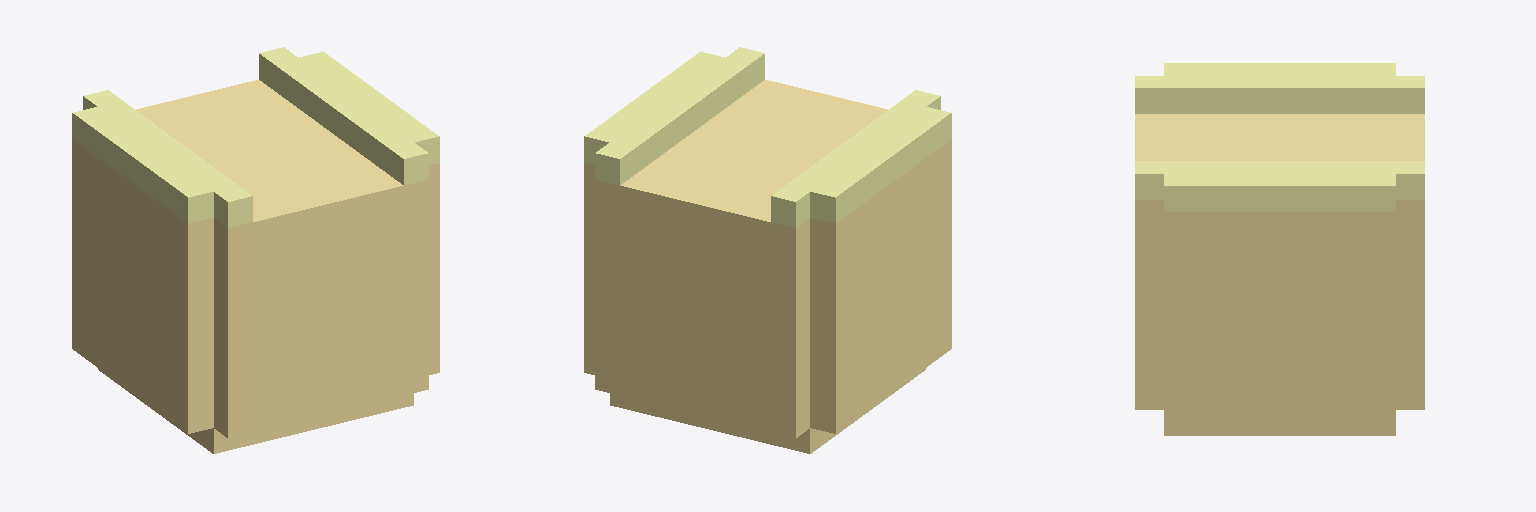
3 views of the same model, side by side, from view 1: azimuth 30°, elevation 25°; view 2: azimuth 150°, elevation 25°; view 3: azimuth 270°, elevation 25° (orthographic).
Parts seen in each view (by area): view 1: Untitled; view 2: Untitled; view 3: Untitled.
Boxes of the visible parts, <box> form: Untitled: <box>72,47,439,453</box>; Untitled: <box>584,47,951,453</box>; Untitled: <box>1135,63,1424,435</box>.
Size of the model in its own units: 1 by 1 by 1.
Materials: 1 (1 with a texture image).